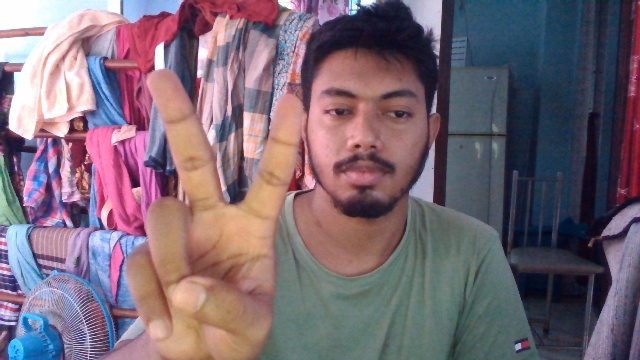thanks: (106, 63, 314, 343)
